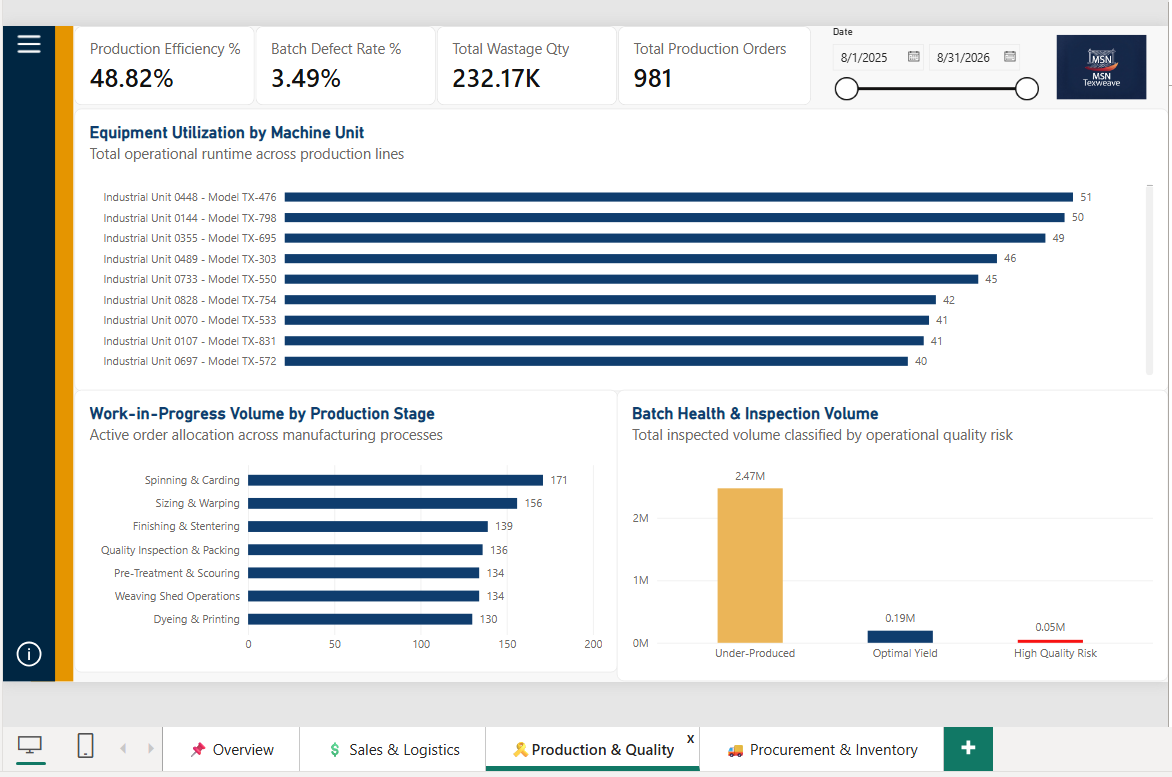

This screenshot's page, from the dashboard's own definition file:
{"tool":"powerbi","page":{"name":"  🎗️Production & Quality","canvas":[1280,720],"ordinal":2},"visuals":[{"type":"group","id":"g1","title":"MenuBar","box":[0,0,77.5,720],"z":0},{"type":"shape","title":"Flyout BG","box":[30,0,47.5,720],"z":0,"group":"g1"},{"type":"shape","title":"Menu BG","box":[0,0,57.5,720],"z":1000,"group":"g1"},{"type":"cardVisual","fields":{"Data":["Measure.Production Efficiency %"]},"box":[78.7,0,198.7,87.3],"z":1000},{"type":"cardVisual","fields":{"Data":["Measure.Batch Defect Rate %"]},"box":[277.3,0,198.7,87.3],"z":2000},{"type":"actionButton","title":"Report","box":[0.6,670,56.5,40],"z":2000,"group":"g1"},{"type":"actionButton","title":"Menu Button","box":[0,0,57.1,40],"z":3000,"group":"g1"},{"type":"cardVisual","fields":{"Data":["Measure.Total Wastage Qty"]},"box":[476,0,198.7,87.3],"z":3000},{"type":"cardVisual","fields":{"Data":["Measure.Total Production Orders"]},"box":[675.1,0,212.7,87.8],"z":4000},{"type":"clusteredBarChart","title":"Equipment Utilization by Machine Unit  ","fields":{"Category":["Machines.MachineName"],"Y":["Sum(MachineAllocation.OperatingHours)"]},"box":[78.3,90,1201.7,310],"z":5000},{"type":"barChart","title":" Work-in-Progress Volume by Production Stage  ","fields":{"Category":["ProductionStages.StageName"],"Y":["Measure.Production Orders by Stage"]},"box":[78.3,400,596.7,310],"z":6000},{"type":"clusteredColumnChart","title":"Batch Health & Inspection Volume","fields":{"Category":["vw_ProductionQualityAndYield.BatchHealthStatus"],"Y":["Sum(vw_ProductionQualityAndYield.TotalInspectedQuantity)"]},"box":[674.3,400,605.7,320],"z":7000},{"type":"slicer","fields":{"Values":["DateTable.Date"]},"box":[902.9,0,237.4,90.6],"z":9000},{"type":"image","box":[1147.7,9.2,117.7,71.5],"z":10000}]}

Visuals, with their boxes on the page's 1280x720 design canvas (x1, y1, x2, y2). These are canvas units, not pixel positions in the 1172x777 screenshot, which may show the page scaled, cropped or inside an application window:
"MenuBar" group: x1=0 y1=0 x2=78 y2=720
"Flyout BG" shape: x1=30 y1=0 x2=78 y2=720
"Menu BG" shape: x1=0 y1=0 x2=58 y2=720
cardVisual - Measure.Production Efficiency %: x1=79 y1=0 x2=277 y2=87
cardVisual - Measure.Batch Defect Rate %: x1=277 y1=0 x2=476 y2=87
"Report" actionButton: x1=1 y1=670 x2=57 y2=710
"Menu Button" actionButton: x1=0 y1=0 x2=57 y2=40
cardVisual - Measure.Total Wastage Qty: x1=476 y1=0 x2=675 y2=87
cardVisual - Measure.Total Production Orders: x1=675 y1=0 x2=888 y2=88
"Equipment Utilization by Machine Unit  " clusteredBarChart: x1=78 y1=90 x2=1280 y2=400
" Work-in-Progress Volume by Production Stage  " barChart: x1=78 y1=400 x2=675 y2=710
"Batch Health & Inspection Volume" clusteredColumnChart: x1=674 y1=400 x2=1280 y2=720
slicer - DateTable.Date: x1=903 y1=0 x2=1140 y2=91
image: x1=1148 y1=9 x2=1265 y2=81
